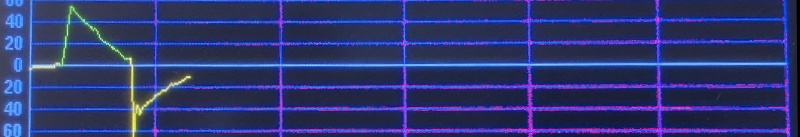normal_flow: (30, 0, 206, 137)
